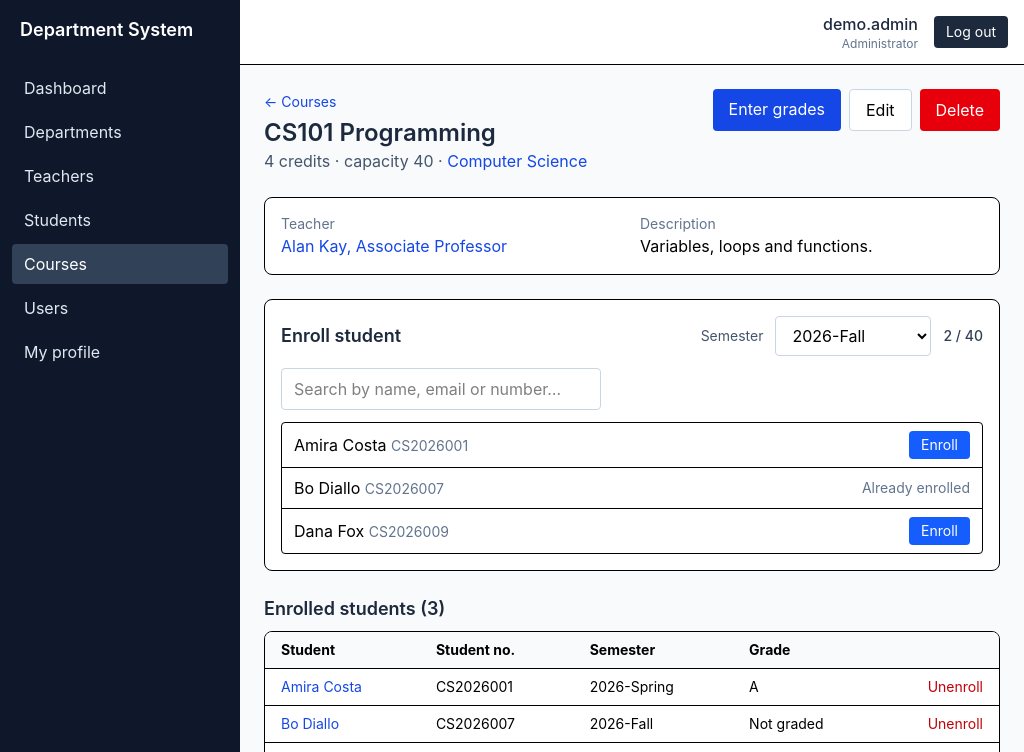
Test case: unenroll › asks first, mentioning the grade, then unenrolls
The image size is (1024, 752).
Click the button with aria-label "Unenroll Amira Costa (2026-Spring)" at (955, 687), box [928, 677, 983, 697]
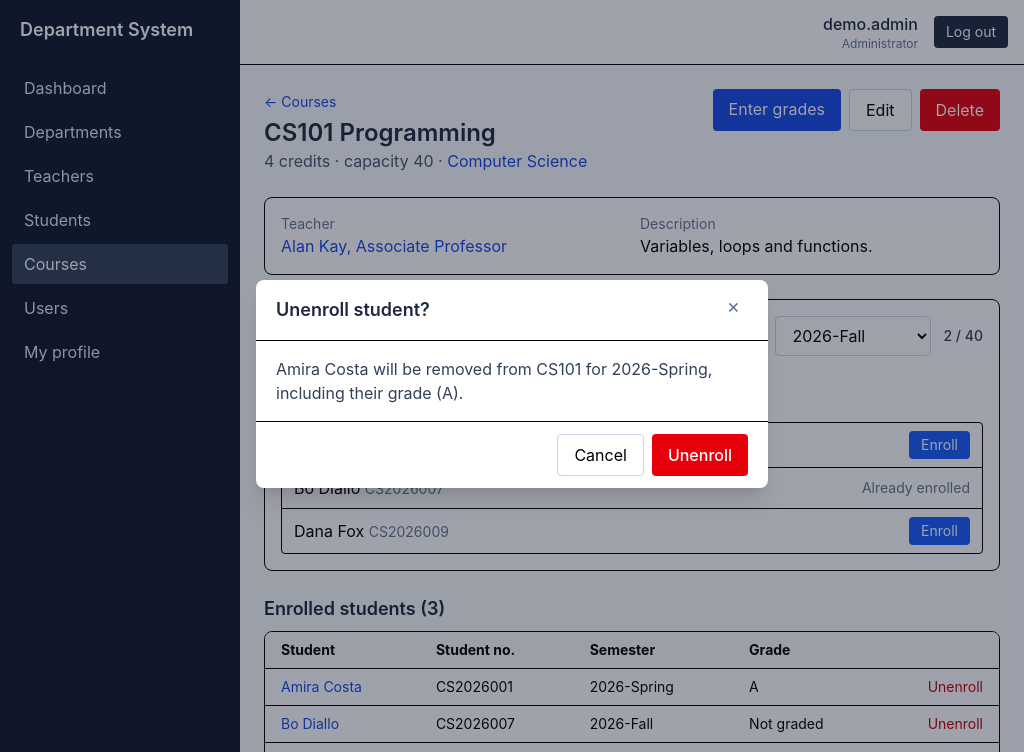
expect the dialog "Unenroll student?" shows "Amira Costa will be removed from CS101 for 2026-Spring, including their grade (A).": met, box [276, 359, 712, 403]
Click the button "Unenroll" at (700, 455), box [652, 434, 748, 476]
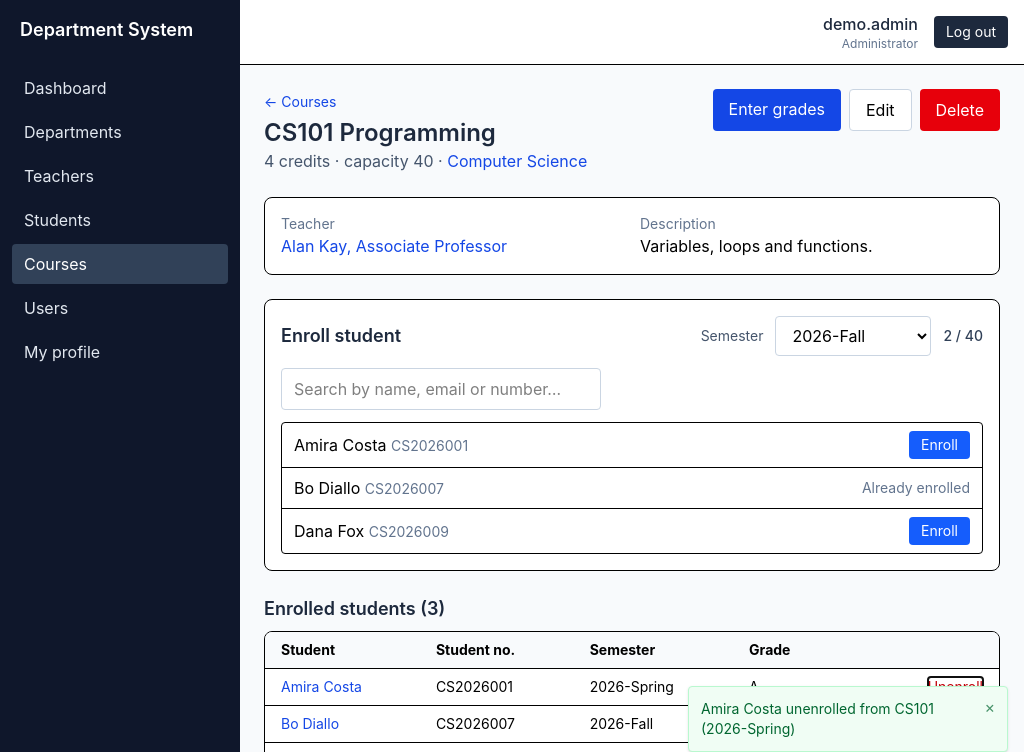
expect the message shows "Amira Costa unenrolled from CS101 (2026-Spring)": met, box [701, 700, 934, 737]
